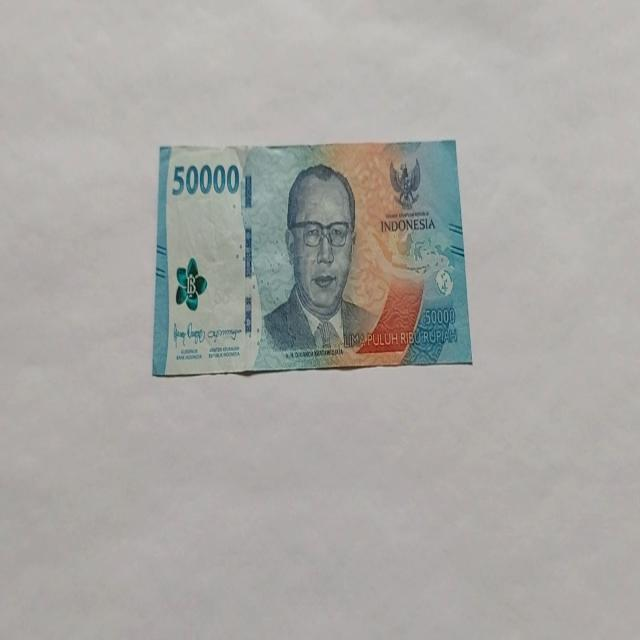lima puluh ribu rupiah: (152, 138, 472, 378), (255, 162, 379, 362)
